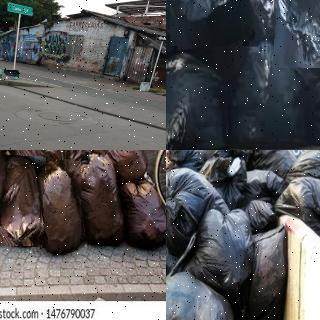Garbage: (229, 41, 304, 149), (166, 50, 225, 150), (74, 152, 130, 248), (29, 160, 84, 255), (195, 208, 255, 293), (166, 168, 225, 253), (167, 0, 252, 48), (0, 155, 44, 246), (118, 176, 166, 248), (166, 271, 234, 320), (275, 0, 320, 69), (273, 175, 320, 232), (92, 150, 149, 182), (304, 65, 320, 147), (40, 150, 85, 162), (2, 70, 19, 79), (0, 67, 6, 78)
